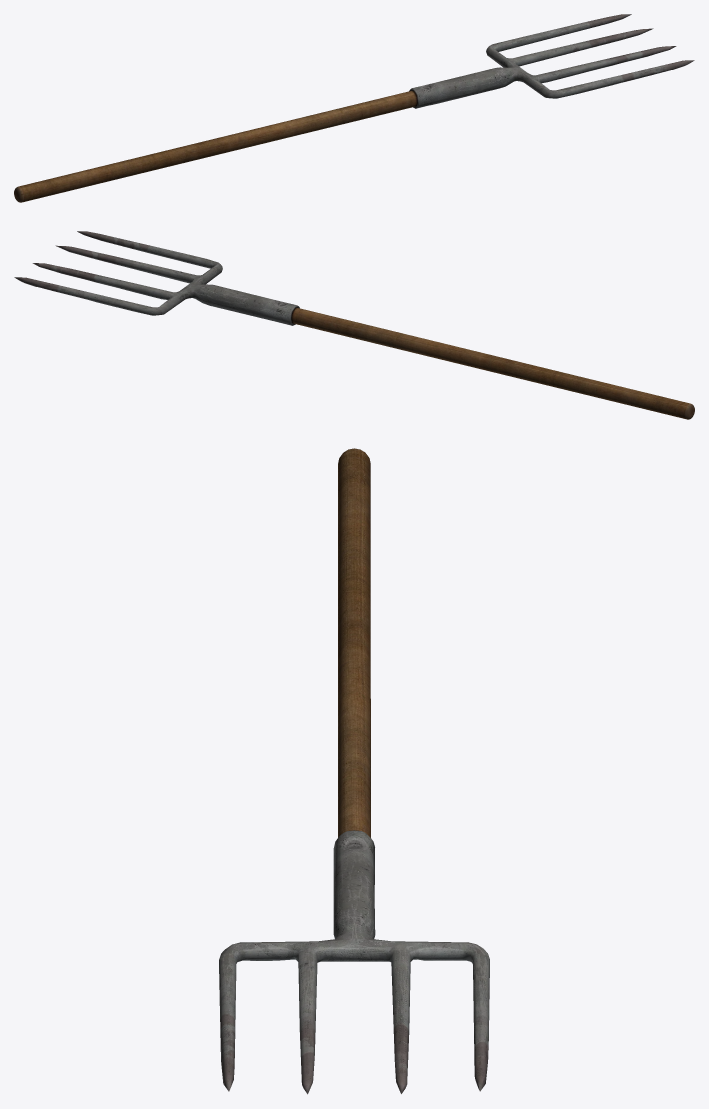
File: pitchfork.glb
3 views of the same model, one above another, from view 1: azimuth 30°, elevation 25°; view 2: azimuth 150°, elevation 25°; view 3: azimuth 270°, elevation 25° (orthographic). The views are drawn at different scales.
Parts seen in each view (by area): view 1: base; view 2: base; view 3: base.
Boxes of the visible parts, <box> form: base: <box>14,14,694,202</box>; base: <box>14,231,694,419</box>; base: <box>219,448,489,1094</box>.
Size of the model in its own units: 1.18 by 0.0333 by 0.2135.
1 material, 1 textured.
